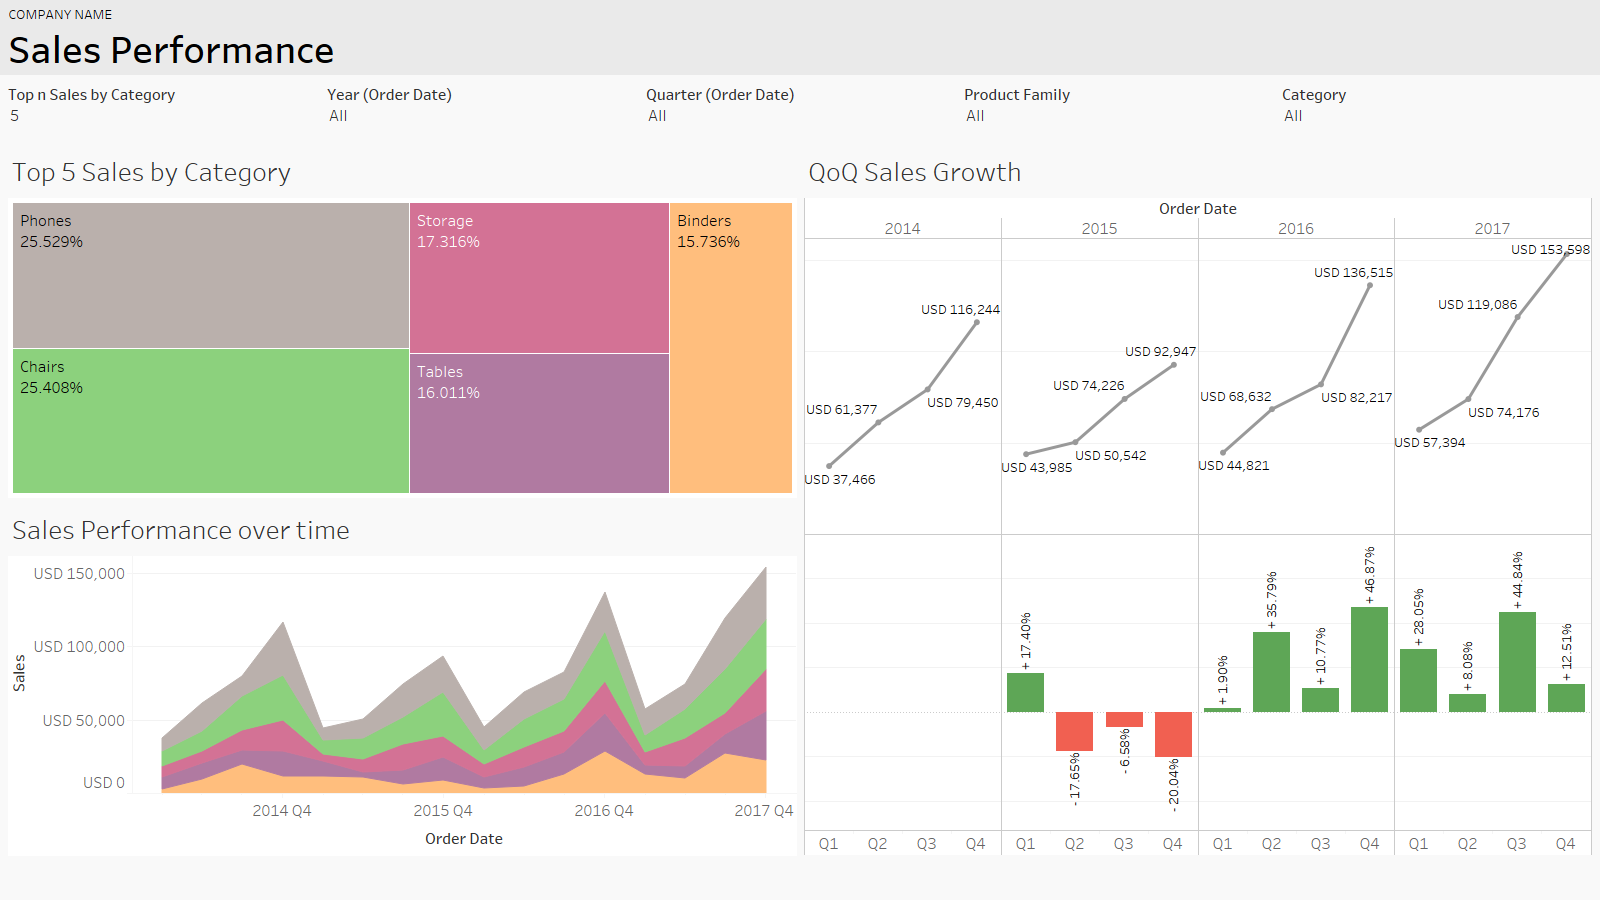

This screenshot's page, from the dashboard's own definition file:
{"tool":"tableau","page":{"name":"Sales Performance","canvas":[1600,900],"ordinal":2},"visuals":[{"type":"text","box":[0,0,1600,75]},{"type":"blank","box":[0,0,663.4,77.4]},{"type":"text","box":[663.4,0,836.3,77.4]},{"type":"blank","box":[1499.7,0,100.3,77.4]},{"type":"blank","box":[0,77.4,72.5,68]},{"type":"text","box":[72.5,77.4,1527.5,68]},{"type":"parameter","param":"[Parameters].[Parameter 1]","box":[4,79,319,65]},{"type":"filter","title":"QoQ Sales Growth","param":"[federated.0ukujvq0t6tfha15fncxn1vepaob].[yr:ORDER_DATE:ok]","box":[323,79,319,65]},{"type":"filter","title":"QoQ Sales Growth","param":"[federated.0ukujvq0t6tfha15fncxn1vepaob].[qr:ORDER_DATE:ok]","box":[642,79,318,65]},{"type":"filter","title":"QoQ Sales Growth","param":"[federated.0ukujvq0t6tfha15fncxn1vepaob].[none:NAME (PRODUCT.csv):nk]","box":[960,79,318,65]},{"type":"filter","title":"QoQ Sales Growth","param":"[federated.0ukujvq0t6tfha15fncxn1vepaob].[none:CATEGORY:nk]","box":[1278,79,318,65]},{"type":"worksheet","title":"Top n Sales","mark":"Automatic","box":[4,144,796,358]},{"type":"worksheet","title":"QoQ Sales Growth","mark":"Automatic","rows":["SALES","SALES"],"cols":["ORDER_DATE","ORDER_DATE"],"box":[800,144,796,716]},{"type":"blank","box":[0,145.5,1600,5.2]},{"type":"text","box":[0,150.7,400,83.7]},{"type":"text","box":[400,150.7,400,83.7]},{"type":"text","box":[800,150.7,400,83.7]},{"type":"text","box":[1200,150.7,400,83.7]},{"type":"blank","box":[0,234.4,1600,9.4]},{"type":"text","box":[0,243.8,800,306.6]},{"type":"text","box":[800,243.8,800,612.2]},{"type":"text","box":[884.3,415.5,693.3,155.9]},{"type":"worksheet","title":"Sales over time","mark":"Area","rows":["SALES"],"cols":["ORDER_DATE"],"box":[4,502,796,358]},{"type":"text","box":[0,550.5,800,305.6]},{"type":"text","box":[884.3,571.4,693.3,68]},{"type":"text","box":[884.3,639.4,693.3,68]},{"type":"text","box":[884.3,707.5,693.3,142.3]}]}

Visuals, with their boxes in screenshot pixels (x1, y1, x2, y2), scaled from the page's 1600x900 canvas onto the 1600x900 screenshot:
text: locate(0, 0, 1599, 75)
blank: locate(0, 0, 663, 77)
text: locate(663, 0, 1500, 77)
blank: locate(1500, 0, 1599, 77)
blank: locate(0, 77, 72, 145)
text: locate(72, 77, 1599, 145)
parameter: locate(4, 79, 323, 144)
"QoQ Sales Growth" filter: locate(323, 79, 642, 144)
"QoQ Sales Growth" filter: locate(642, 79, 960, 144)
"QoQ Sales Growth" filter: locate(960, 79, 1278, 144)
"QoQ Sales Growth" filter: locate(1278, 79, 1596, 144)
"Top n Sales" worksheet: locate(4, 144, 800, 502)
"QoQ Sales Growth" worksheet: locate(800, 144, 1596, 860)
blank: locate(0, 146, 1599, 151)
text: locate(0, 151, 400, 234)
text: locate(400, 151, 800, 234)
text: locate(800, 151, 1200, 234)
text: locate(1200, 151, 1599, 234)
blank: locate(0, 234, 1599, 244)
text: locate(0, 244, 800, 550)
text: locate(800, 244, 1599, 856)
text: locate(884, 416, 1578, 571)
"Sales over time" worksheet (Area marks): locate(4, 502, 800, 860)
text: locate(0, 550, 800, 856)
text: locate(884, 571, 1578, 639)
text: locate(884, 639, 1578, 707)
text: locate(884, 708, 1578, 850)
